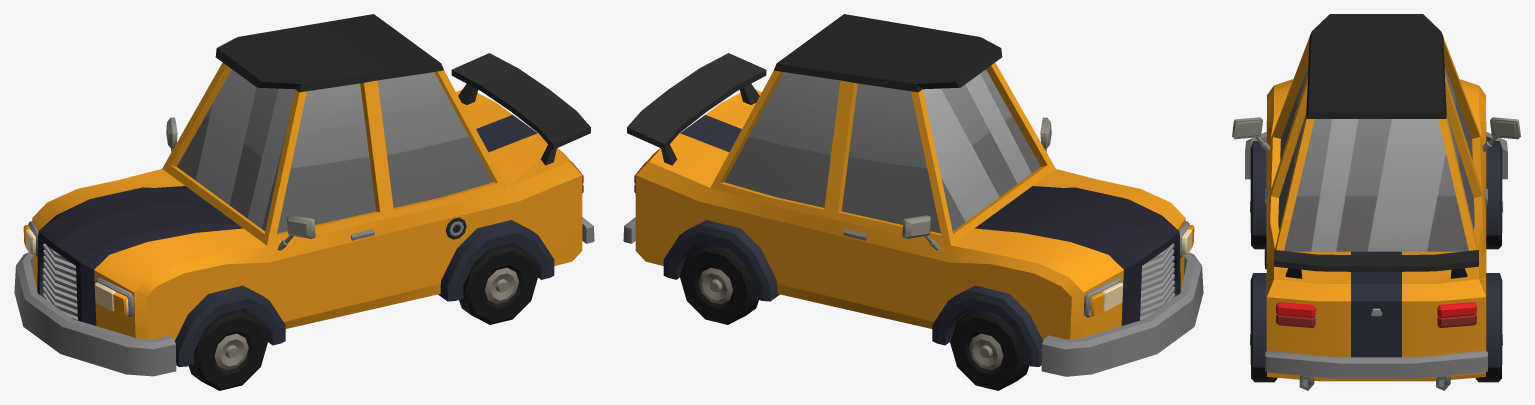
The model's file is Car_2_A.gltf.
The picture shows the model from 3 angles, left to right: view 1: azimuth 30°, elevation 25°; view 2: azimuth 150°, elevation 25°; view 3: azimuth 270°, elevation 25°; orthographic projection.
Visible parts, largest first — view 1: Car_2_A, RL, FL; view 2: Car_2_A, RR, FR; view 3: Car_2_A, RL, RR.
Boxes of the visible parts, box(x1,y1,x2,y2) form: Car_2_A: box(14, 14, 594, 376); RL: box(459, 243, 538, 324); FL: box(188, 309, 267, 390); Car_2_A: box(623, 14, 1203, 376); RR: box(679, 243, 758, 324); FR: box(950, 309, 1029, 390); Car_2_A: box(1232, 14, 1520, 390); RL: box(1250, 334, 1277, 382); RR: box(1475, 334, 1502, 382).
Size of the model in its own units: 3.64 by 1.8 by 1.78.
4 materials, 4 textured.
